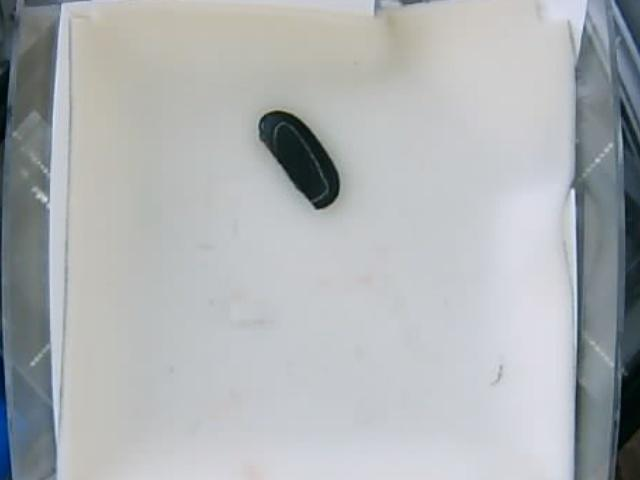Pebble: (256, 112, 339, 212)
